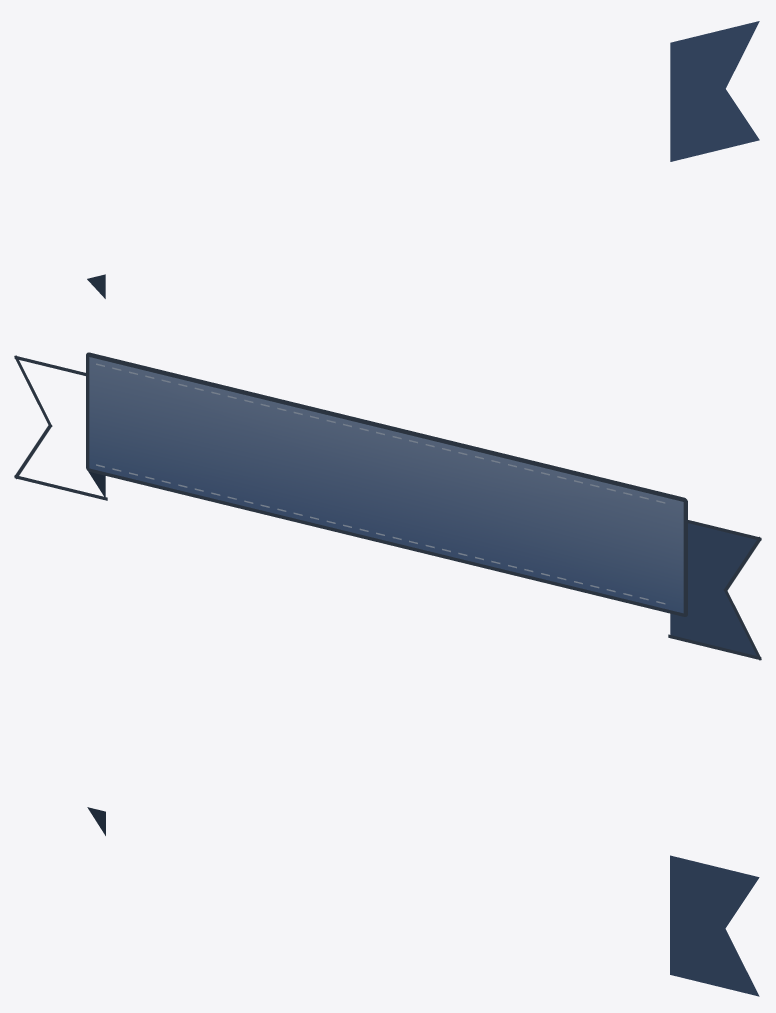
Rendered from ui_ribbon.glb.
3 views of the same model, one above another, from view 1: azimuth 30°, elevation 25°; view 2: azimuth 150°, elevation 25°; view 3: azimuth 330°, elevation 25° (orthographic).
Visible parts, largest first — view 1: ui_ribbon; view 2: ui_ribbon; view 3: ui_ribbon.
Boxes of the visible parts, x1,y1,x2,y2 form: ui_ribbon: (87, 21, 759, 298); ui_ribbon: (14, 352, 761, 660); ui_ribbon: (87, 807, 759, 996).
Size of the model in its own units: 1.18 by 0.2194 by 0.0051.
